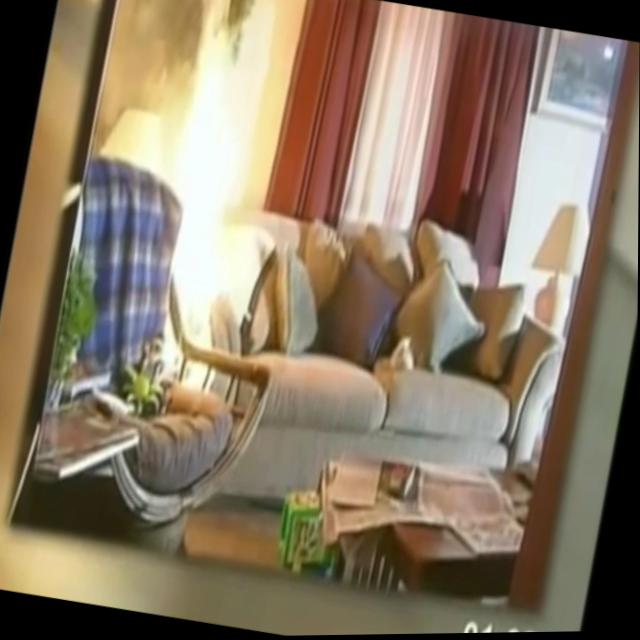fire: (136, 0, 288, 388)
